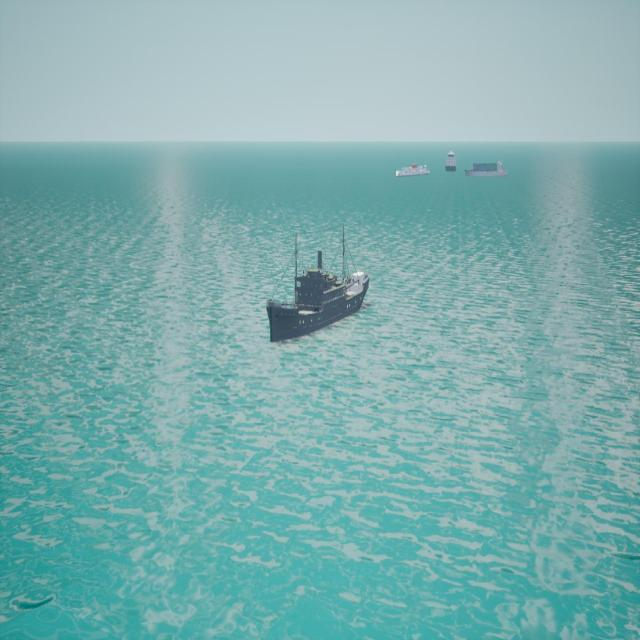fishing ship: (266, 231, 371, 343), (466, 161, 509, 179), (397, 165, 432, 179), (447, 151, 458, 173)
